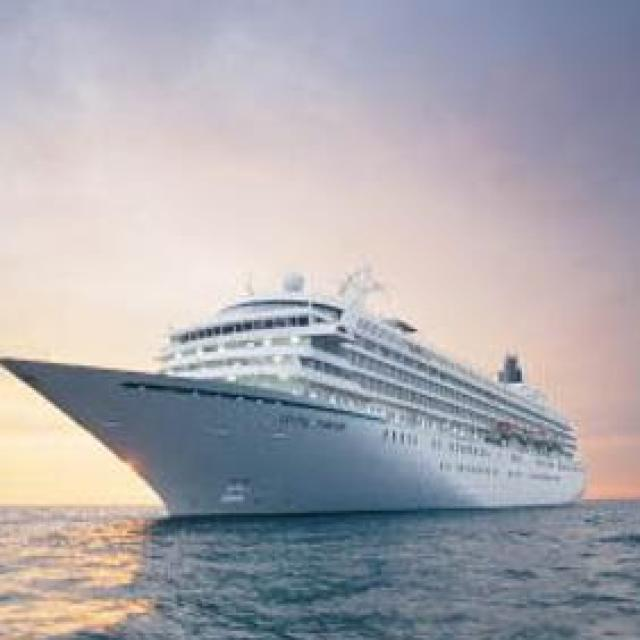passenger ship: (0, 257, 588, 515)
